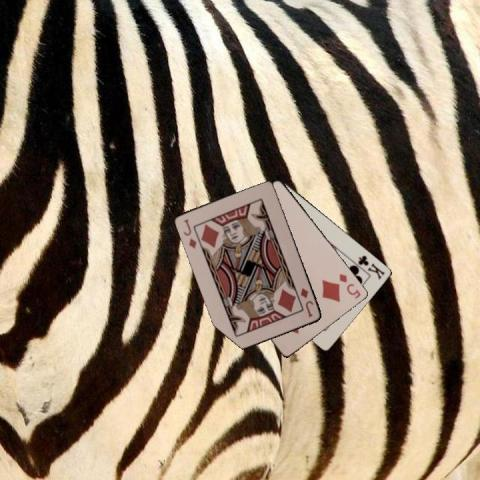5d: (336, 270, 362, 300)
Jd: (297, 284, 315, 318), (181, 216, 198, 250)
Kc: (355, 252, 387, 280)
